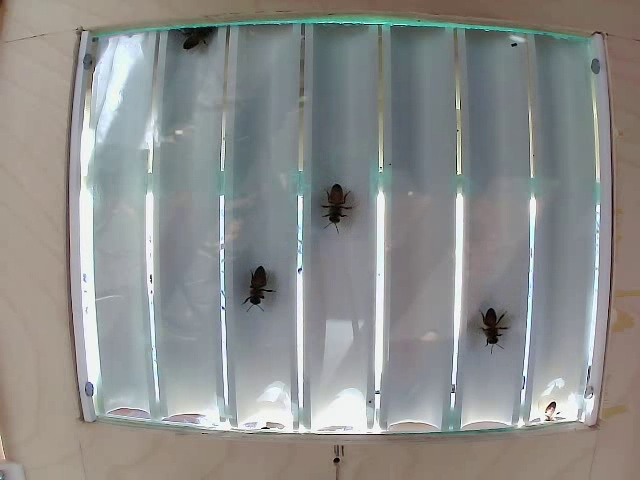bee: (315, 169, 359, 224), (225, 260, 268, 305), (481, 304, 500, 351)
